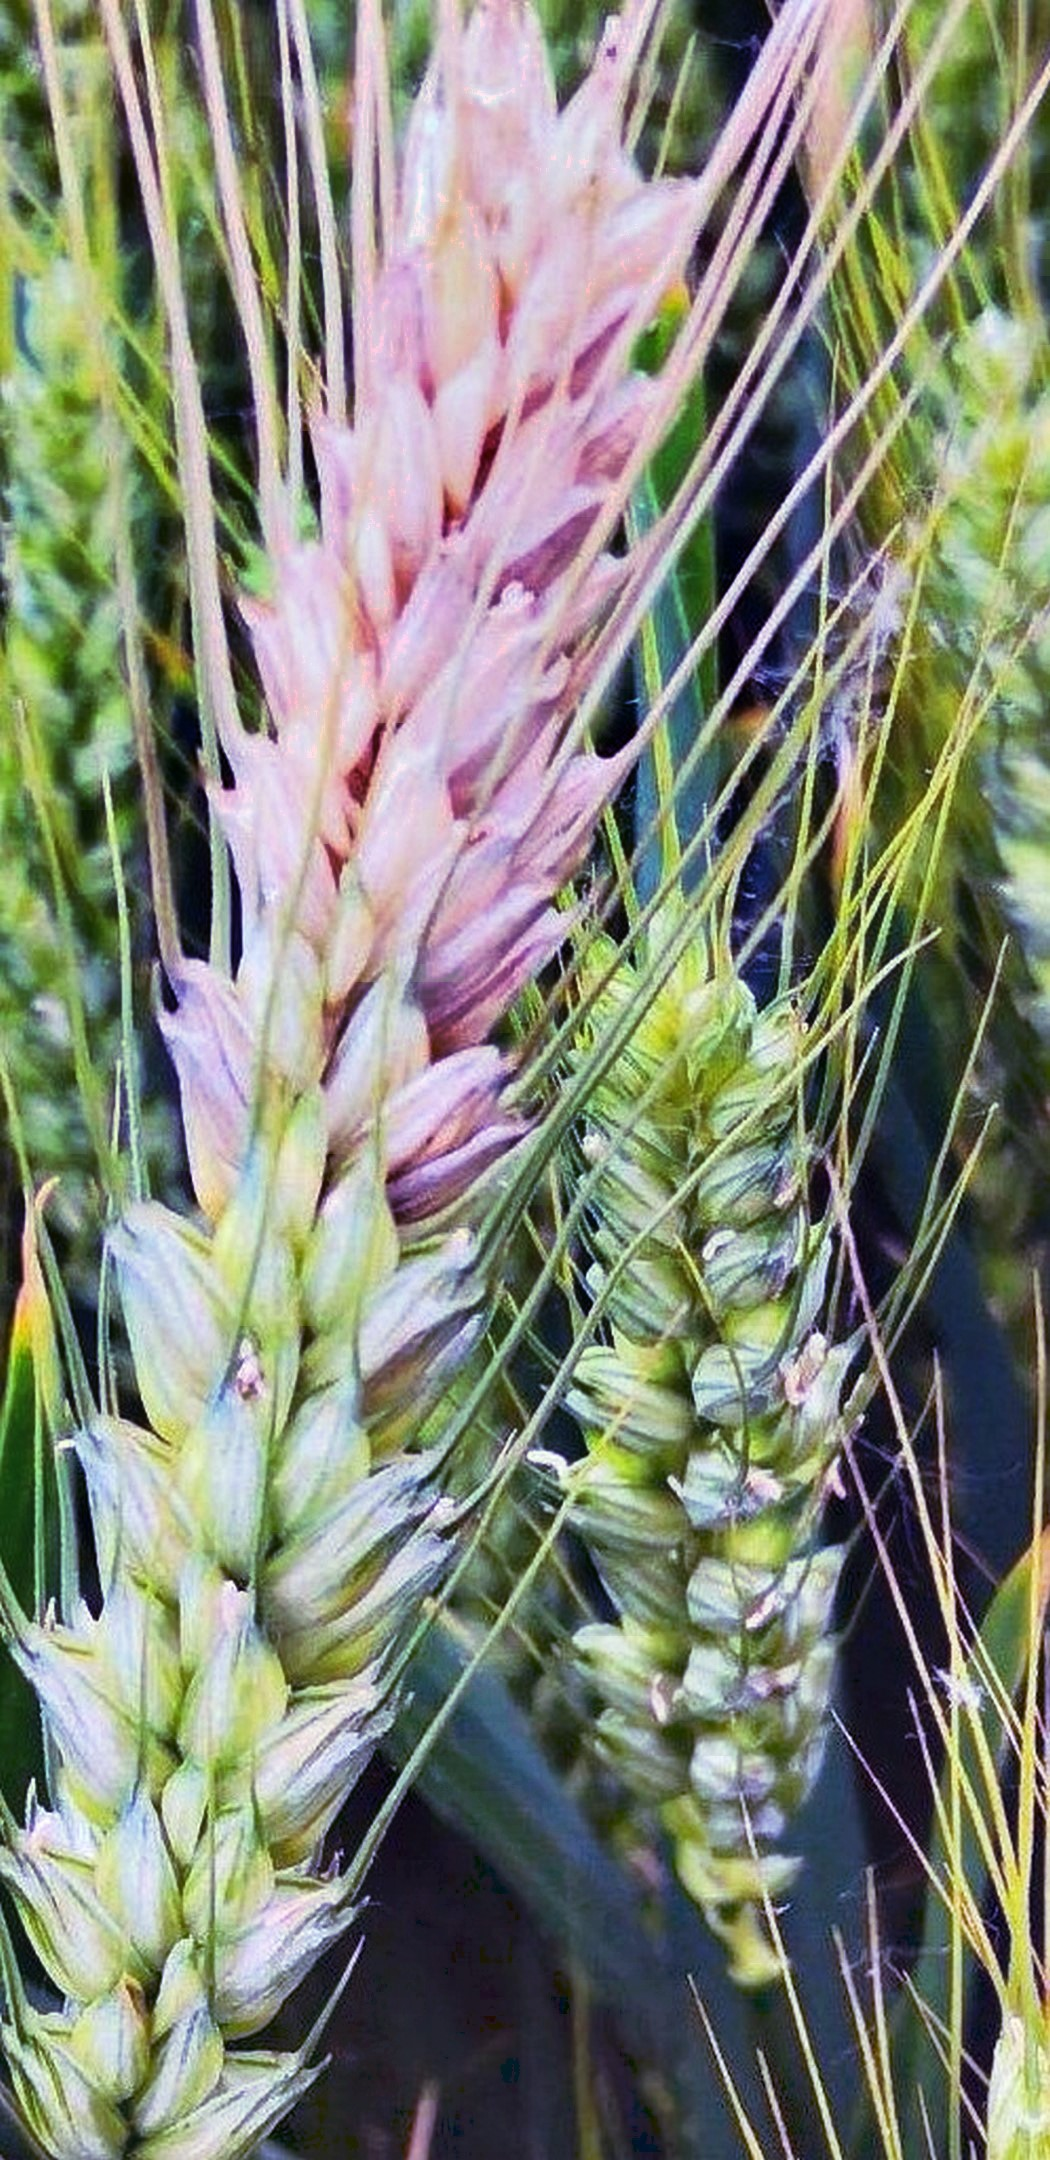Wheat scab: (54, 83, 655, 2043)
